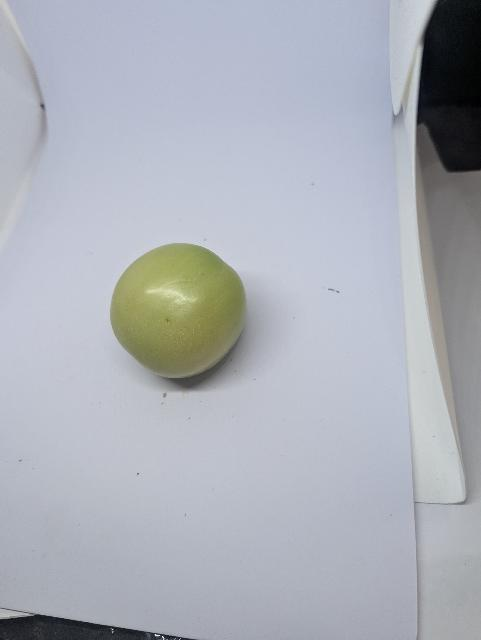green: (109, 241, 249, 381)
